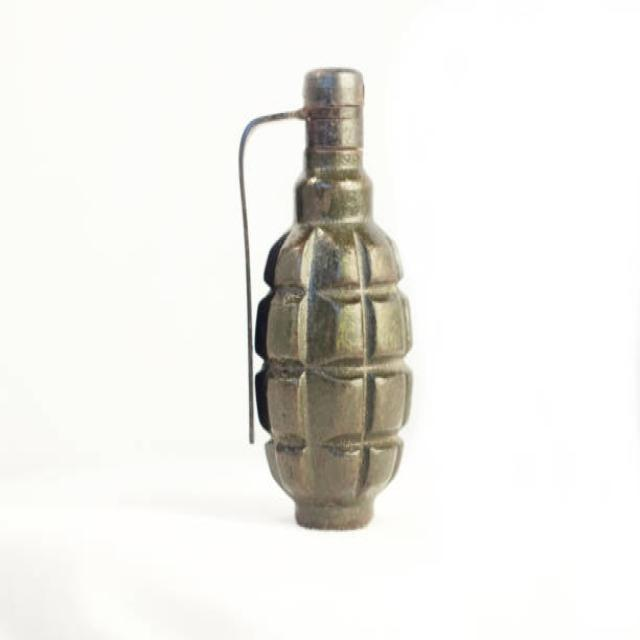grenade: (228, 61, 416, 536)
